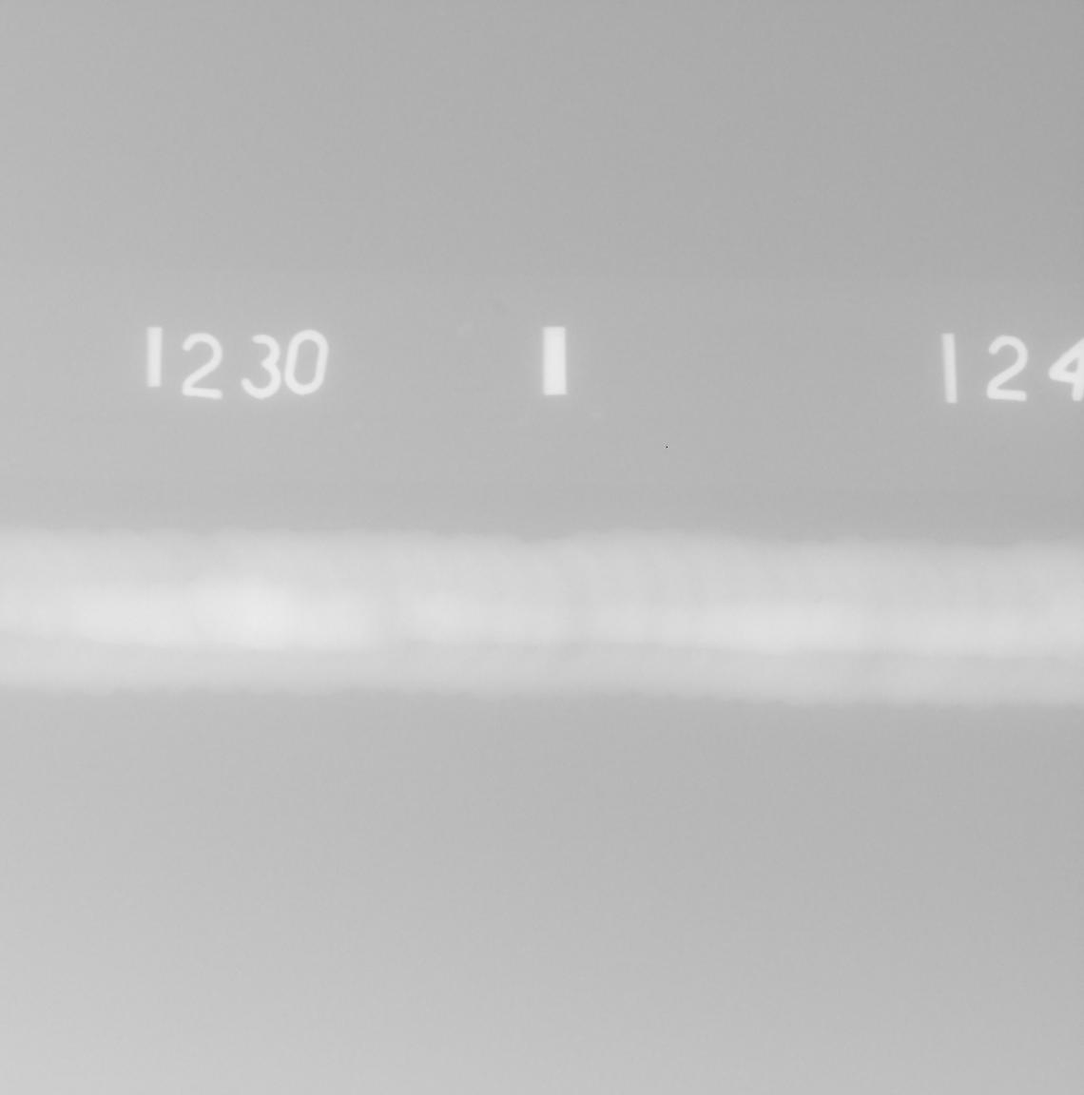Pore/Porosity: (816, 595, 823, 602)
